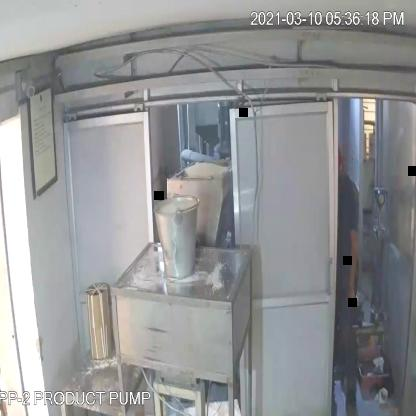no_glove: (342, 226, 367, 318)
